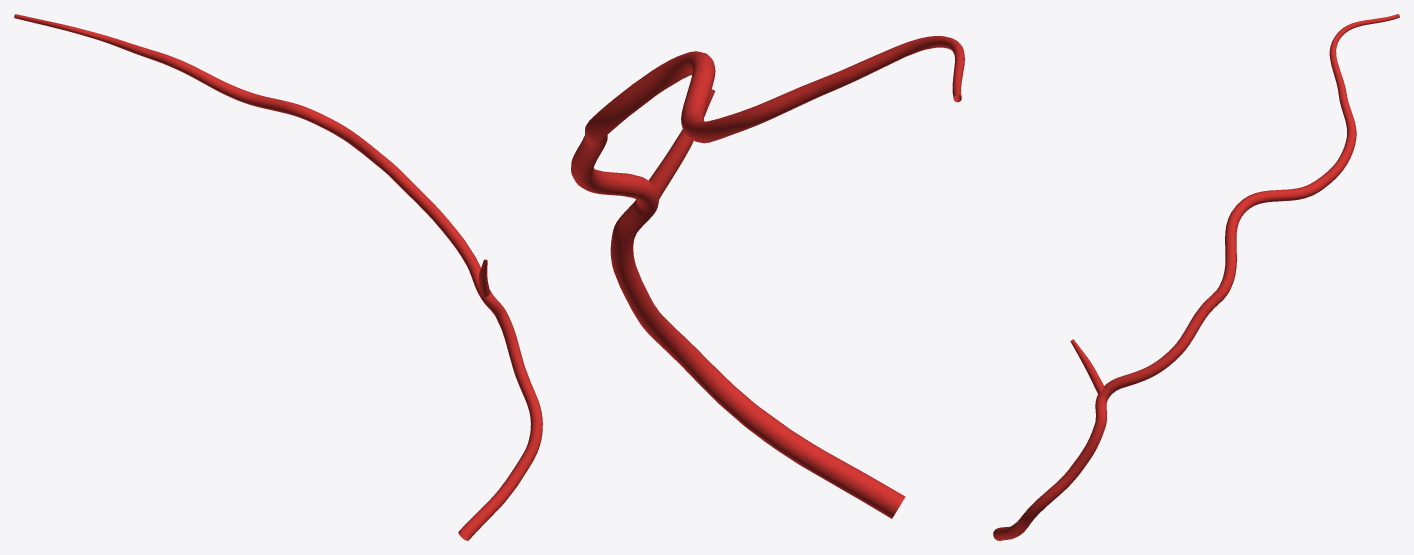
The model's file is circulatorio-postcentral-arterial-branch-l.glb.
3 views of the same model, side by side, from view 1: azimuth 30°, elevation 25°; view 2: azimuth 150°, elevation 25°; view 3: azimuth 270°, elevation 25° (orthographic). The views are drawn at different scales.
Visible parts, largest first — view 1: Postcentral arterial branch.l; view 2: Postcentral arterial branch.l; view 3: Postcentral arterial branch.l.
Part boxes in pixels (x1=…): Postcentral arterial branch.l: x1=14, y1=14, x2=542, y2=540; Postcentral arterial branch.l: x1=571, y1=36, x2=964, y2=518; Postcentral arterial branch.l: x1=993, y1=14, x2=1399, y2=540.
Bounding box in the file's own units: 0.0461 × 0.0558 × 0.0495.
